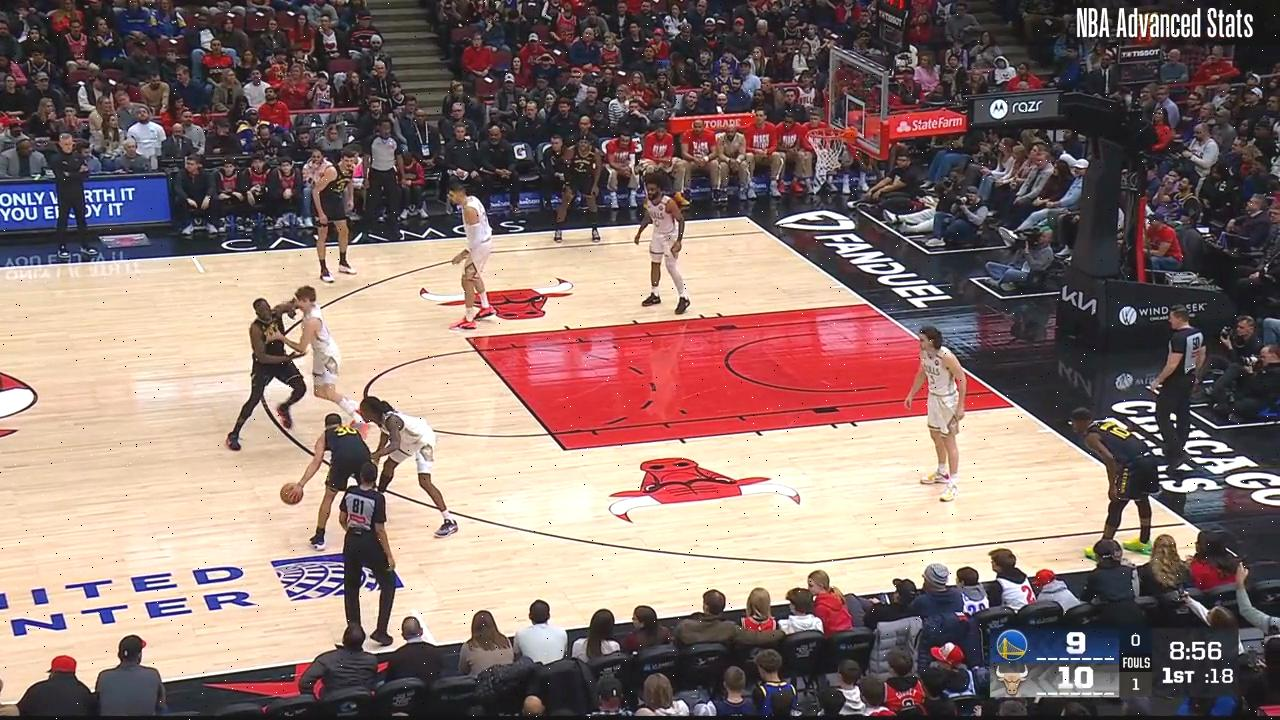basketball: (277, 480, 306, 507)
